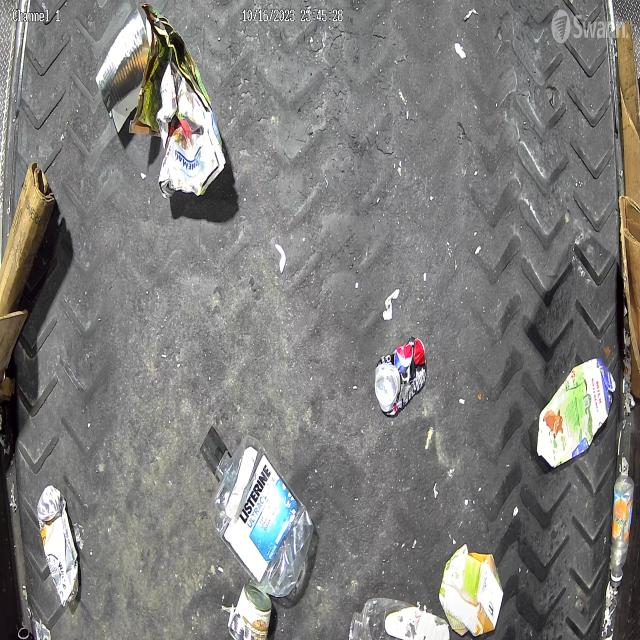can: (95, 5, 150, 114), (37, 484, 79, 608), (374, 336, 428, 417), (228, 583, 272, 640)
non_white_jug: (538, 357, 616, 467), (438, 543, 504, 637)
plastic_bottle: (349, 597, 450, 640), (610, 475, 635, 587)
